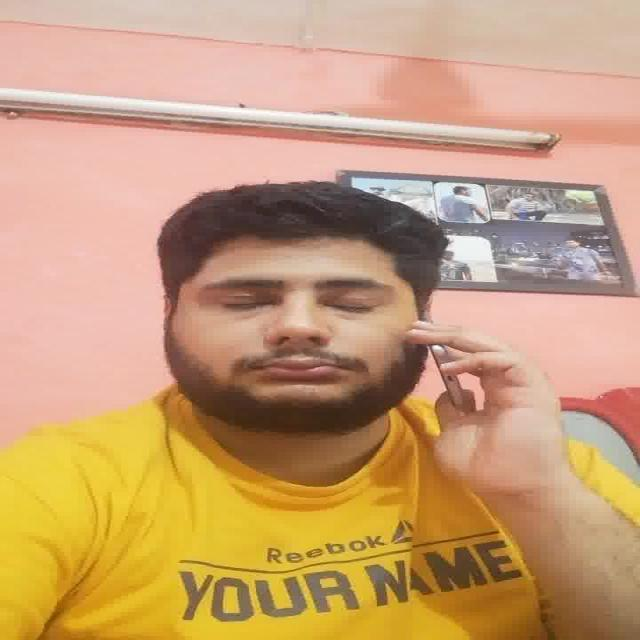Phone: (429, 340, 469, 410)
